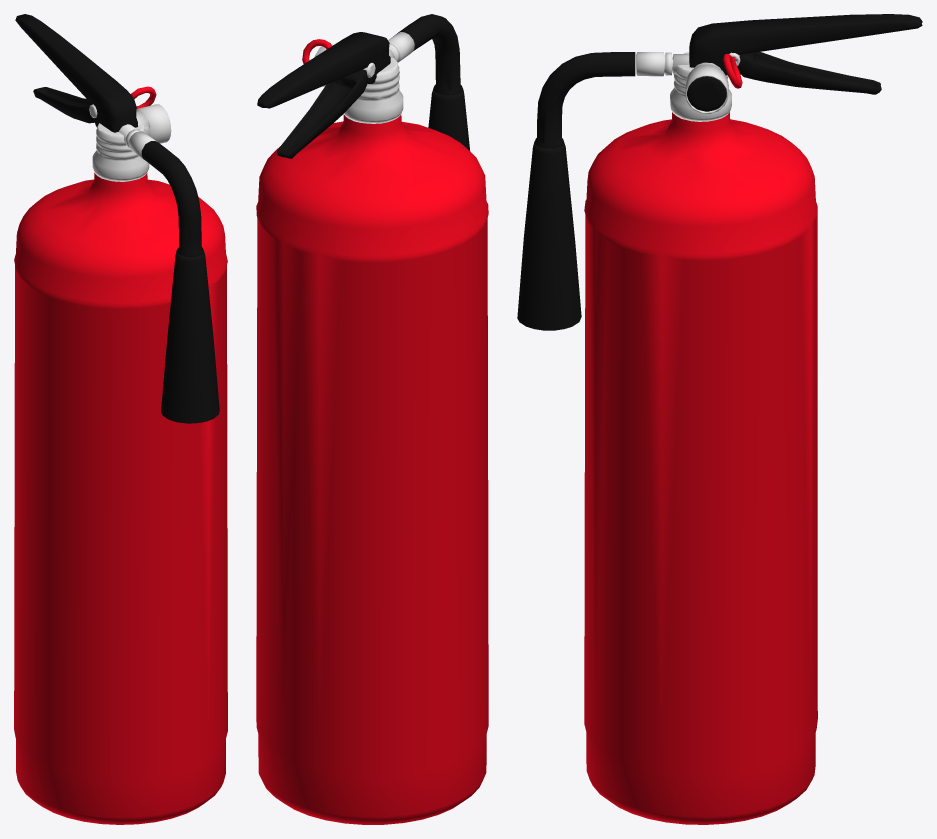
The model's file is fire.fbx.
3 views of the same model, side by side, from view 1: azimuth 30°, elevation 25°; view 2: azimuth 150°, elevation 25°; view 3: azimuth 270°, elevation 25° (orthographic). The views are drawn at different scales.
Visible parts, largest first — view 1: FE_1; view 2: FE_1; view 3: FE_1.
Part boxes in pixels (x1,y1,x2,y2): FE_1: (14, 14, 227, 824); FE_1: (256, 14, 488, 824); FE_1: (517, 14, 922, 824).
Size of the model in its own units: 13.19 by 47.75 by 22.89.
